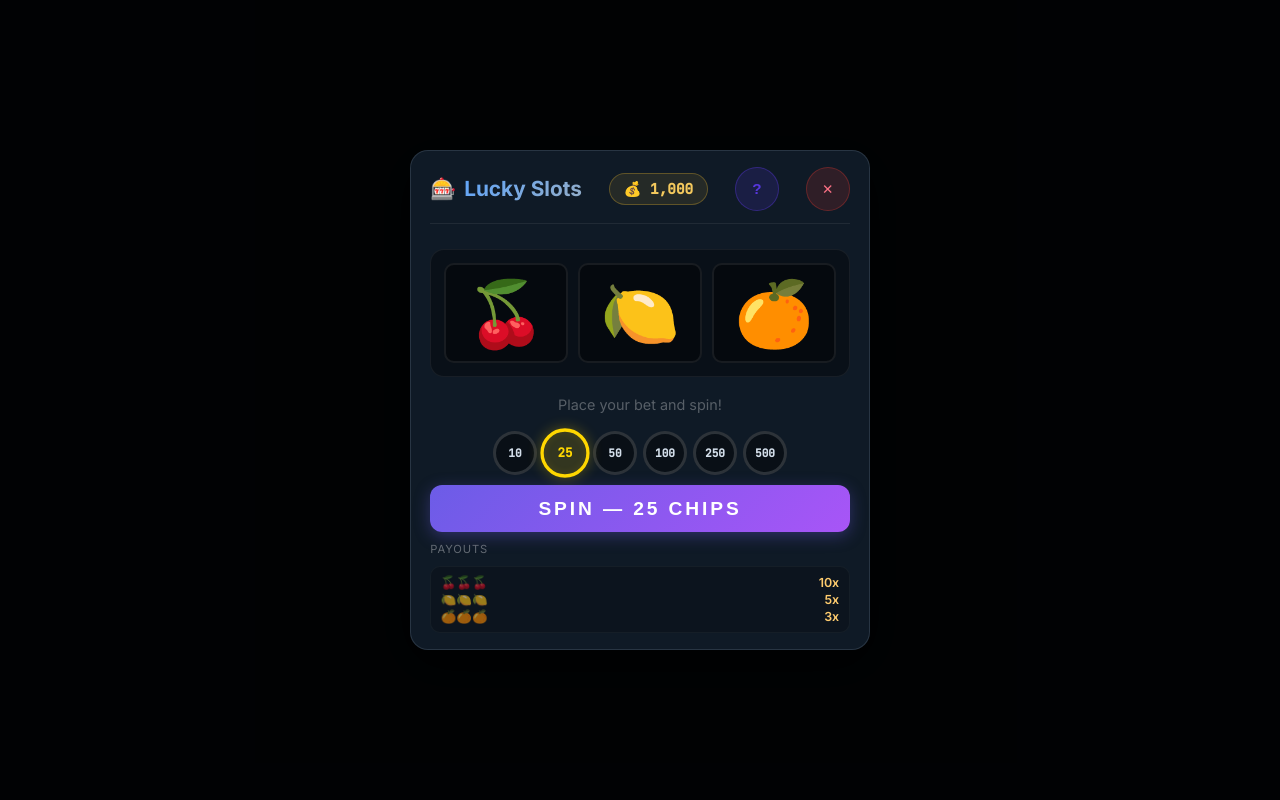
Test: SlotsBoard › spin › shows Spinning text during spin
The width and height of the screenshot is (1280, 800).
Step 1. Click the button "SPIN — 25 chips" → (640, 509), box [430,485,850,532]
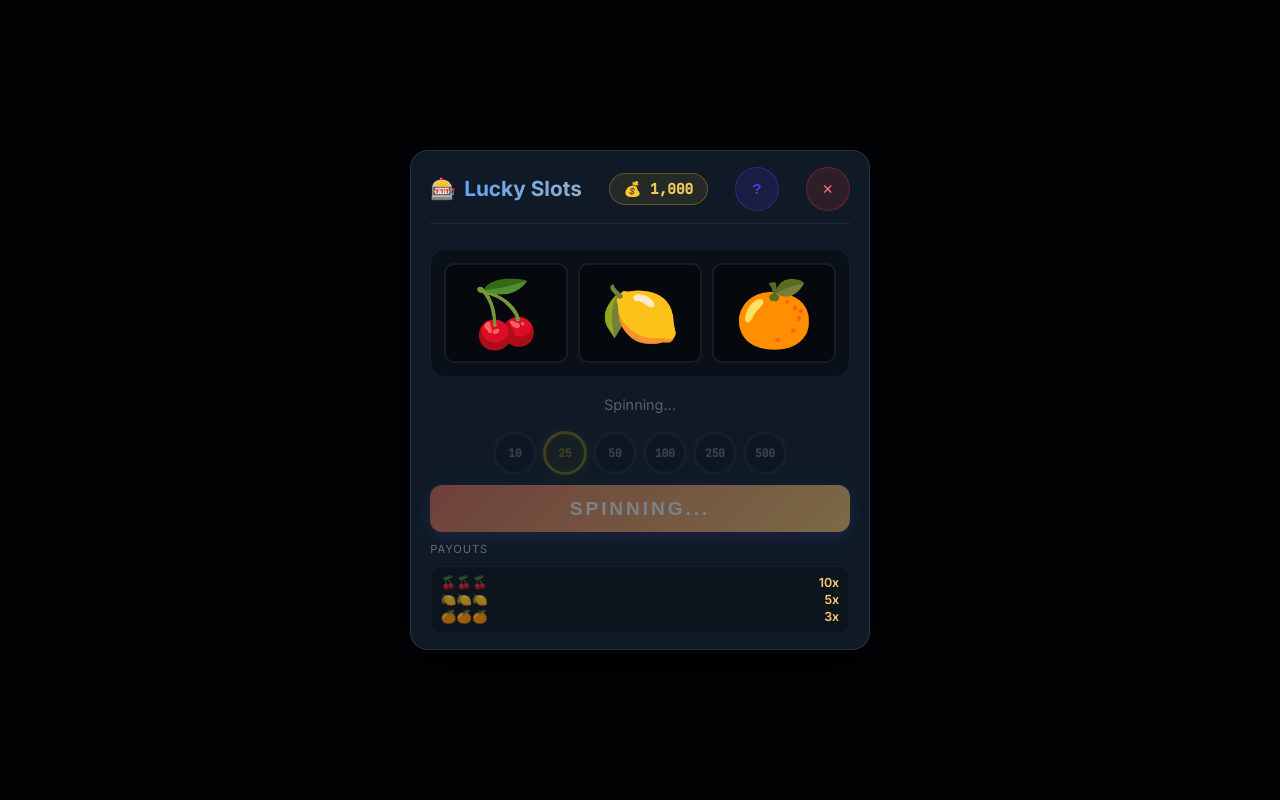
Check: the button "SPINNING..." is shown, box [430,485,850,532]
Check: the text "Spinning..." is shown, box [604,396,676,412]
